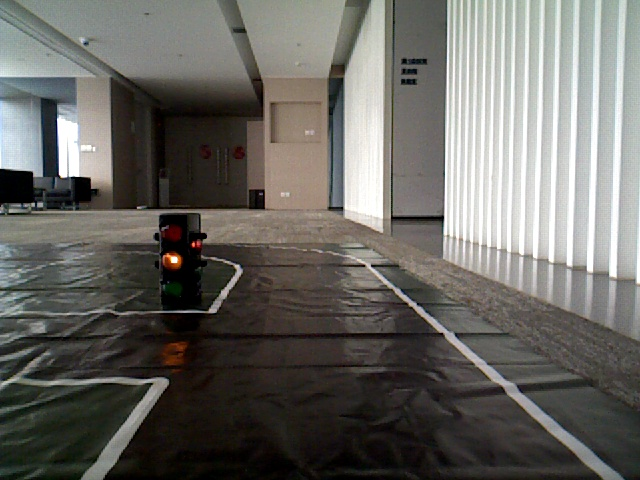yellow: (156, 216, 194, 299)
